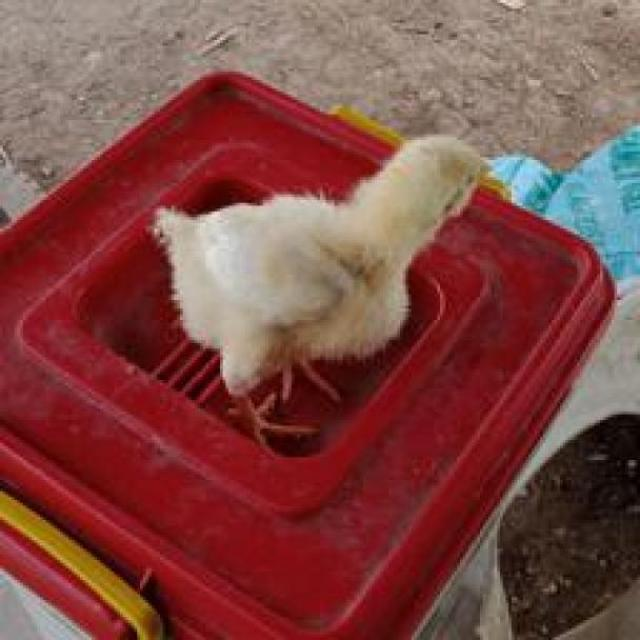Chicken: (135, 127, 521, 436)
